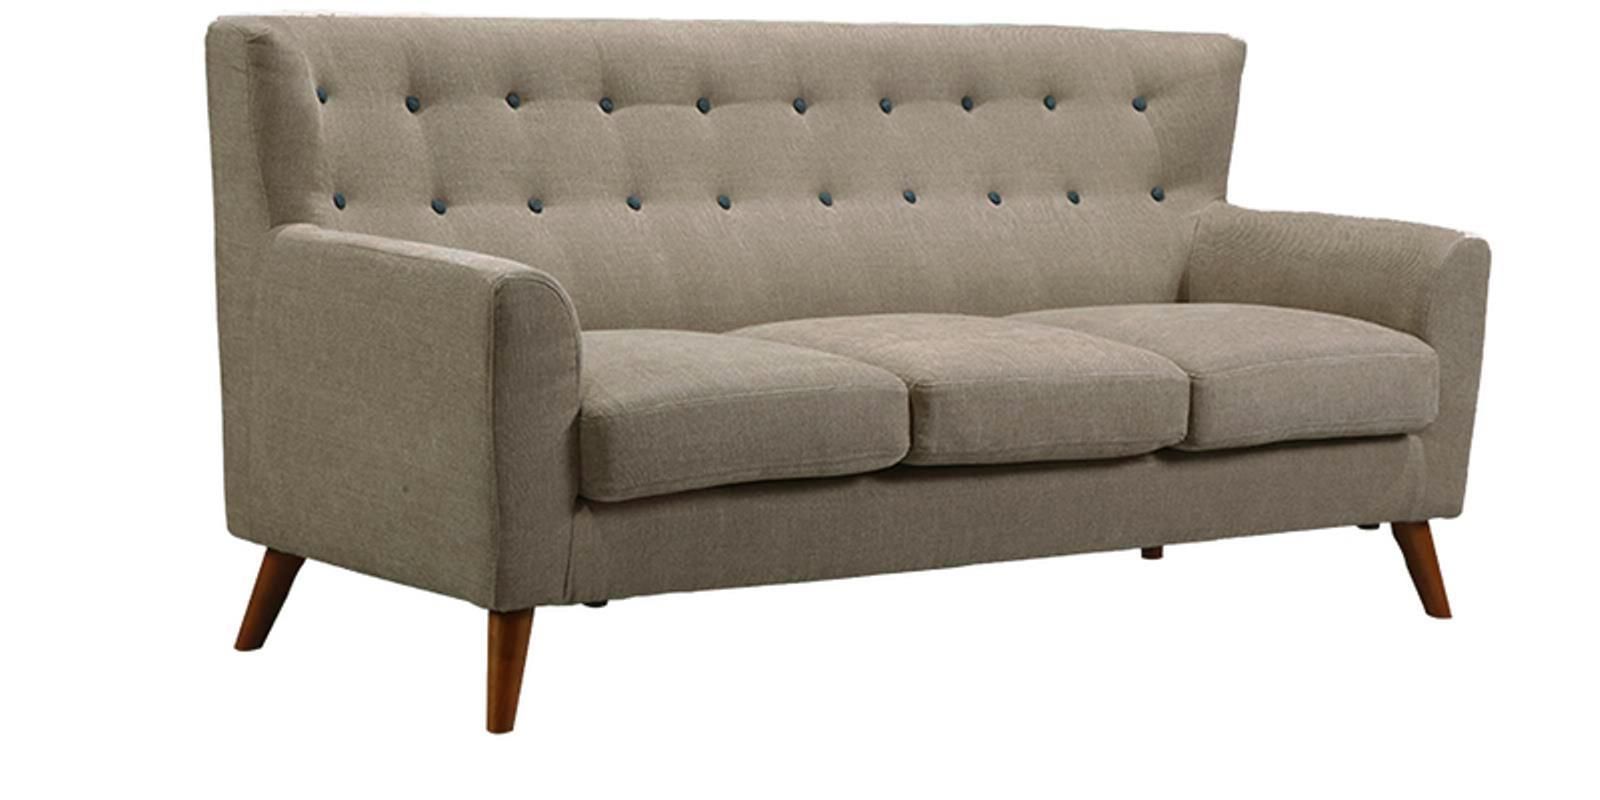Havana Three Seater Sofa in Ecru Colour by CasaCraft: (182, 10, 1510, 760)
